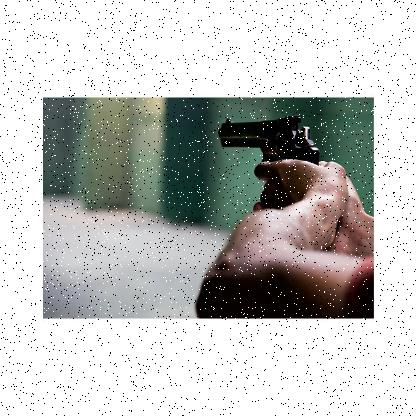gun: (216, 111, 318, 207)
